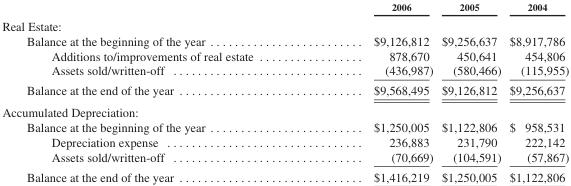table: (1, 1, 568, 183)
table column: (1, 1, 312, 183), (312, 1, 436, 183), (436, 1, 504, 183), (504, 1, 568, 183)
table column header: (1, 1, 568, 15)
table projected row header: (1, 15, 568, 33), (1, 101, 568, 119)
table row: (1, 80, 568, 101), (1, 15, 568, 33), (1, 62, 568, 80), (1, 101, 568, 119), (1, 149, 568, 166), (1, 166, 568, 183), (1, 33, 568, 48), (1, 119, 568, 134), (1, 134, 568, 149), (1, 1, 568, 15), (1, 48, 568, 62)
